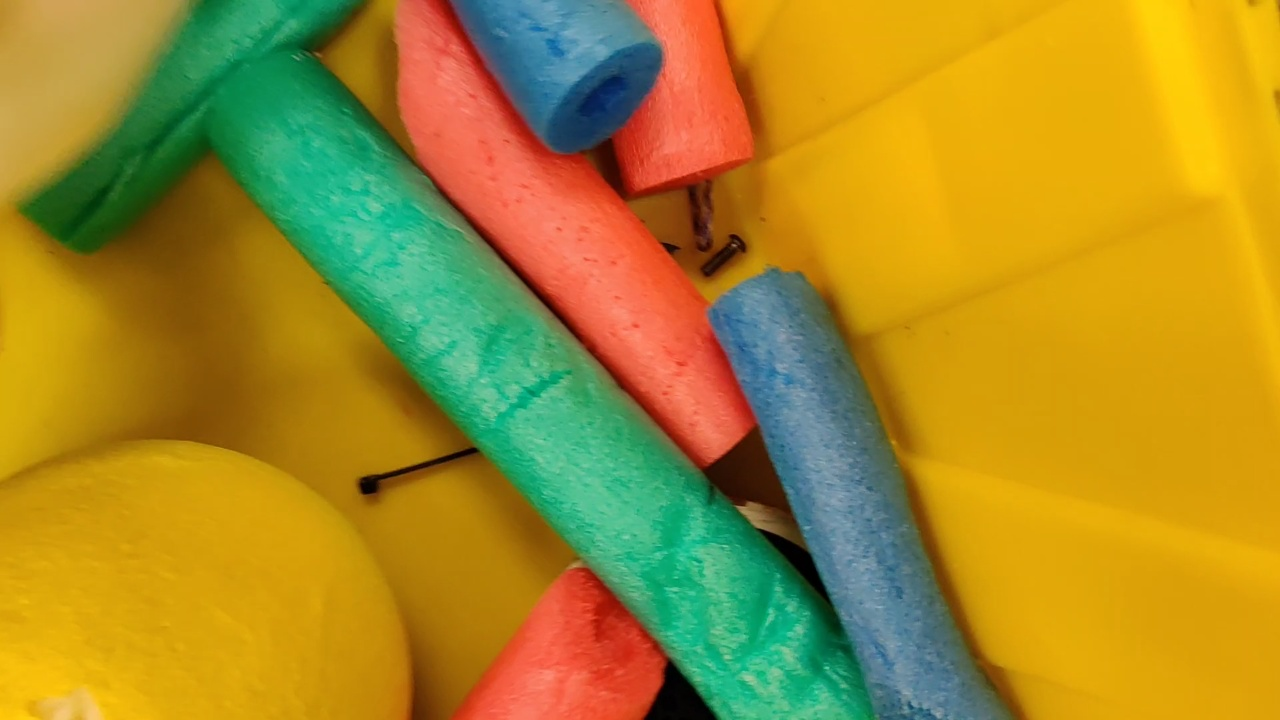Ball: (1, 439, 412, 718)
